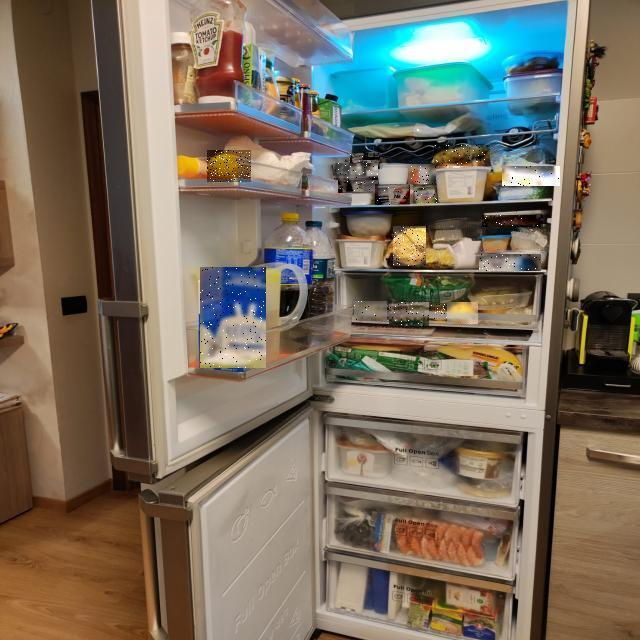cheese: (208, 136, 640, 407), (180, 133, 606, 399), (194, 102, 632, 304), (222, 93, 640, 279), (189, 83, 640, 249)
milk: (68, 184, 334, 552)
